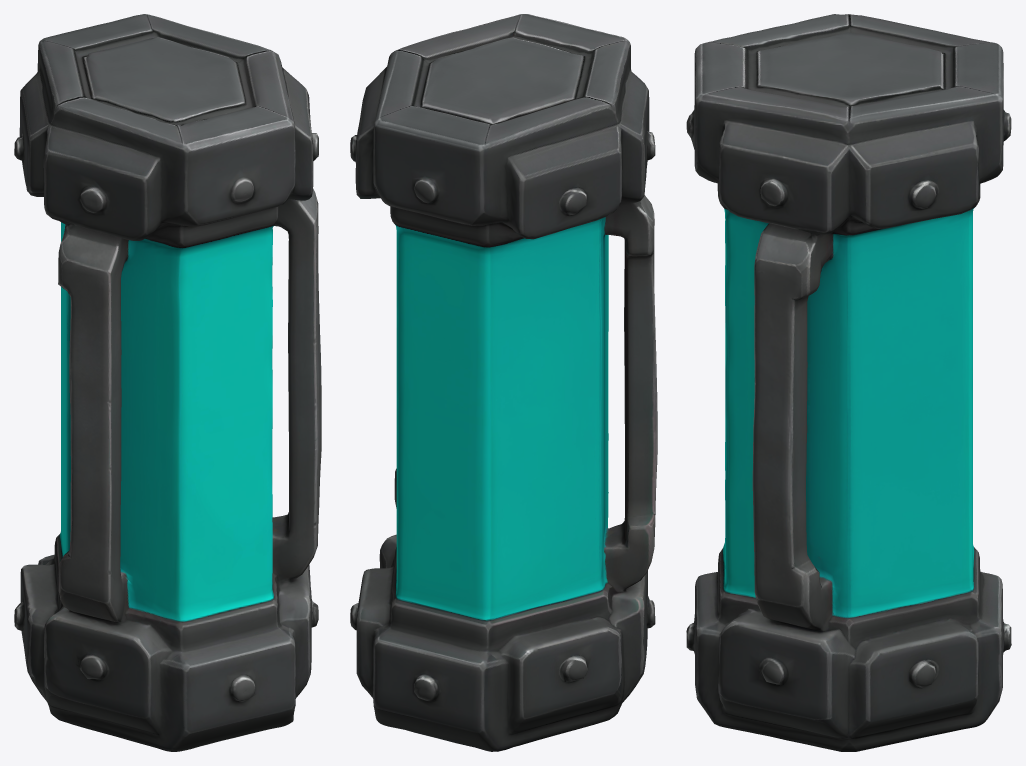
Rendered from futuristic_energy_capsule_3d_model.fbx.
3 views of the same model, side by side, from view 1: azimuth 30°, elevation 25°; view 2: azimuth 150°, elevation 25°; view 3: azimuth 270°, elevation 25° (orthographic). The views are drawn at different scales.
Parts seen in each view (by area): view 1: tripo_node_fa5dc71b; view 2: tripo_node_fa5dc71b; view 3: tripo_node_fa5dc71b.
Part boxes in pixels (x1,y1,x2,y2): tripo_node_fa5dc71b: (14,14,321,751); tripo_node_fa5dc71b: (350,14,657,751); tripo_node_fa5dc71b: (686,14,1011,751).
Bounding box in the file's own units: 43.65 × 97.96 × 45.46.
1 material, 1 textured.
